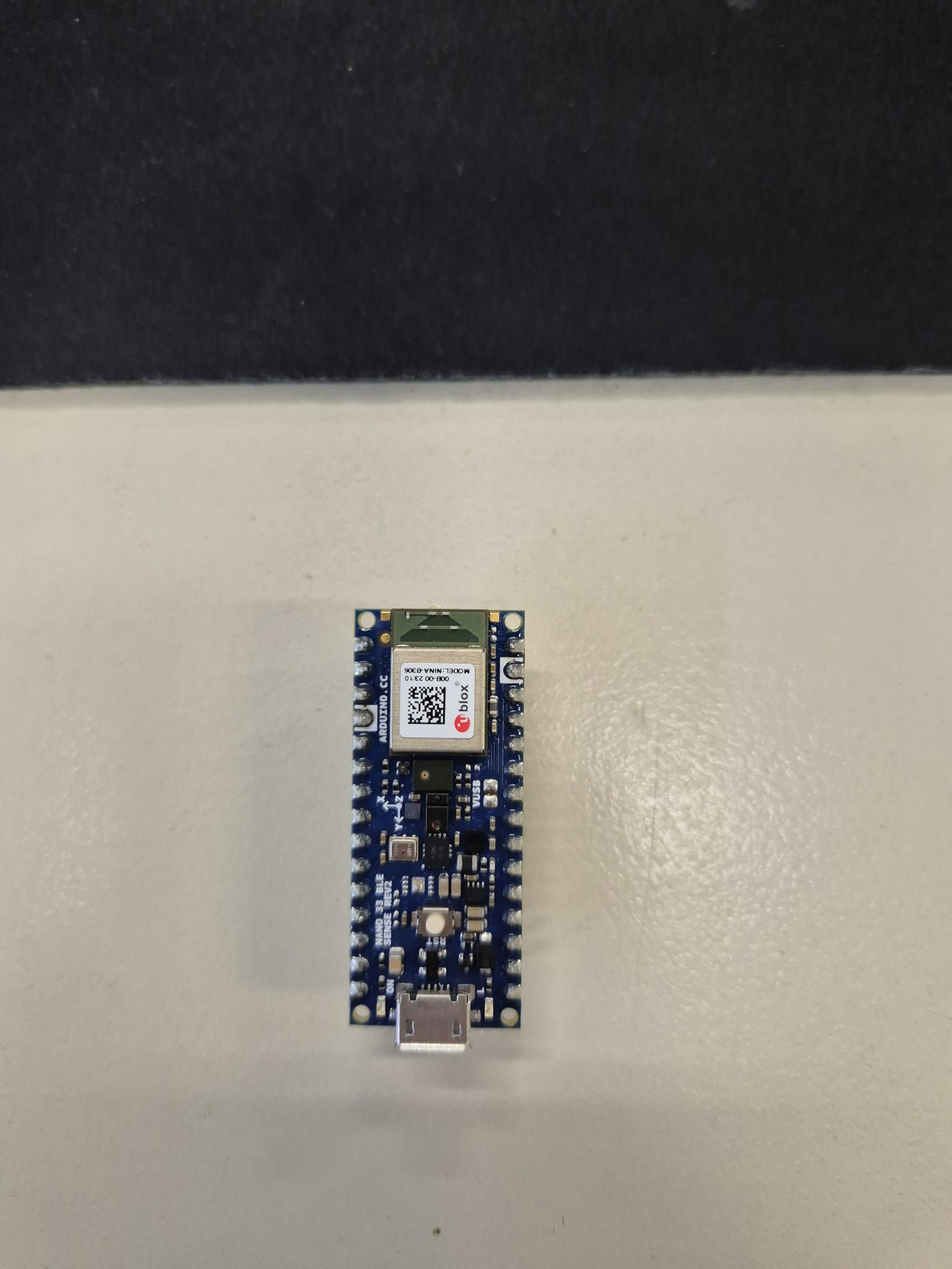arduino-nano-ble-sense: (350, 609, 524, 1051)
